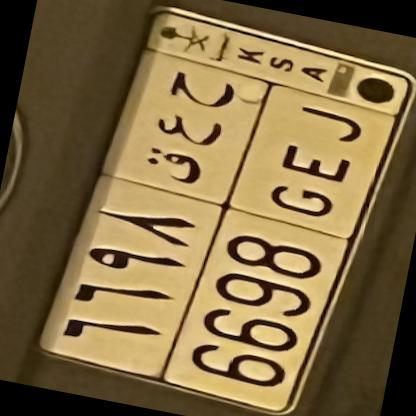english: (183, 79, 391, 416)
